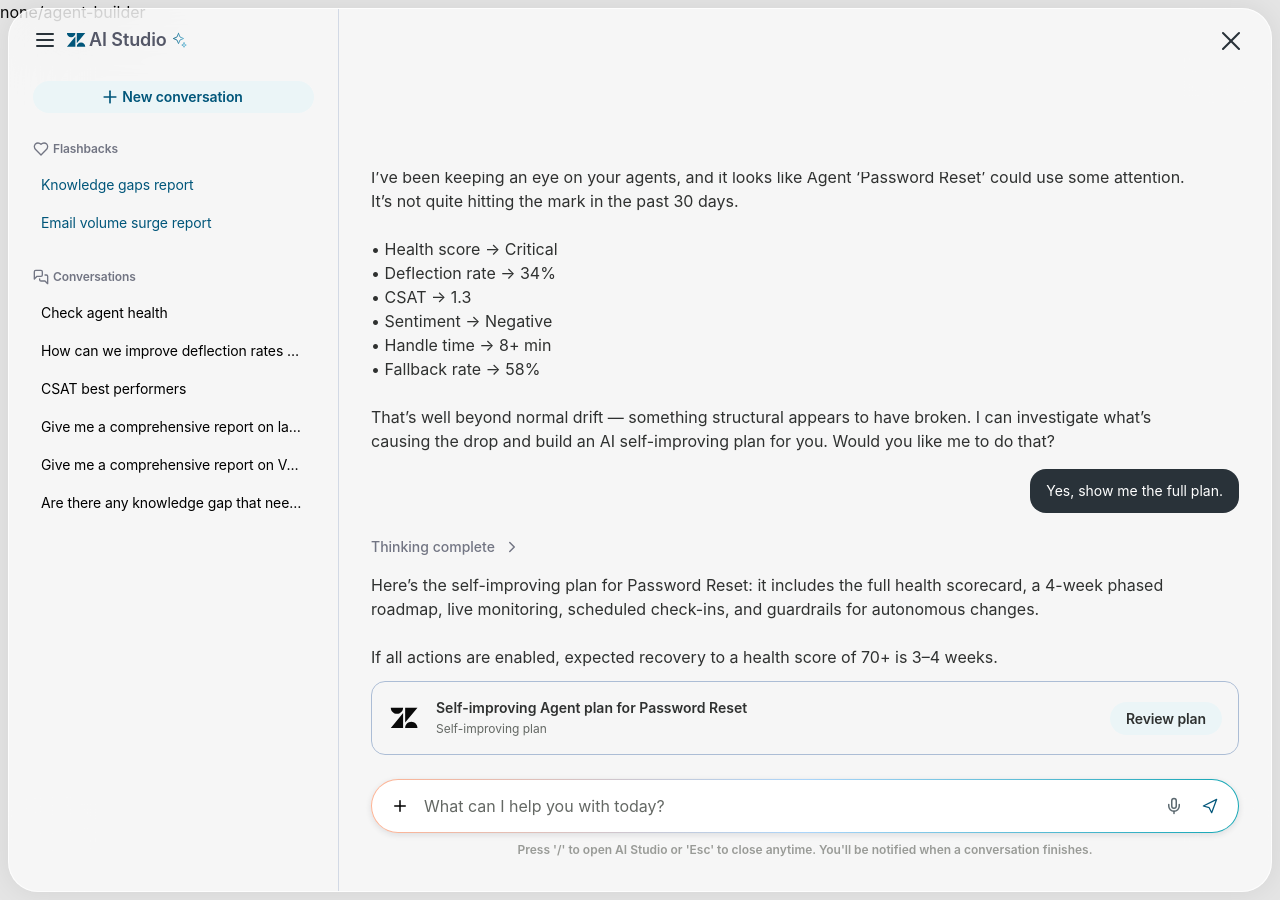
it: SelfImprovingFlow › opens the panel from the artifact card
(page scrolled)
Click the button "Review plan": (1166, 718) [1110,702,1222,734]
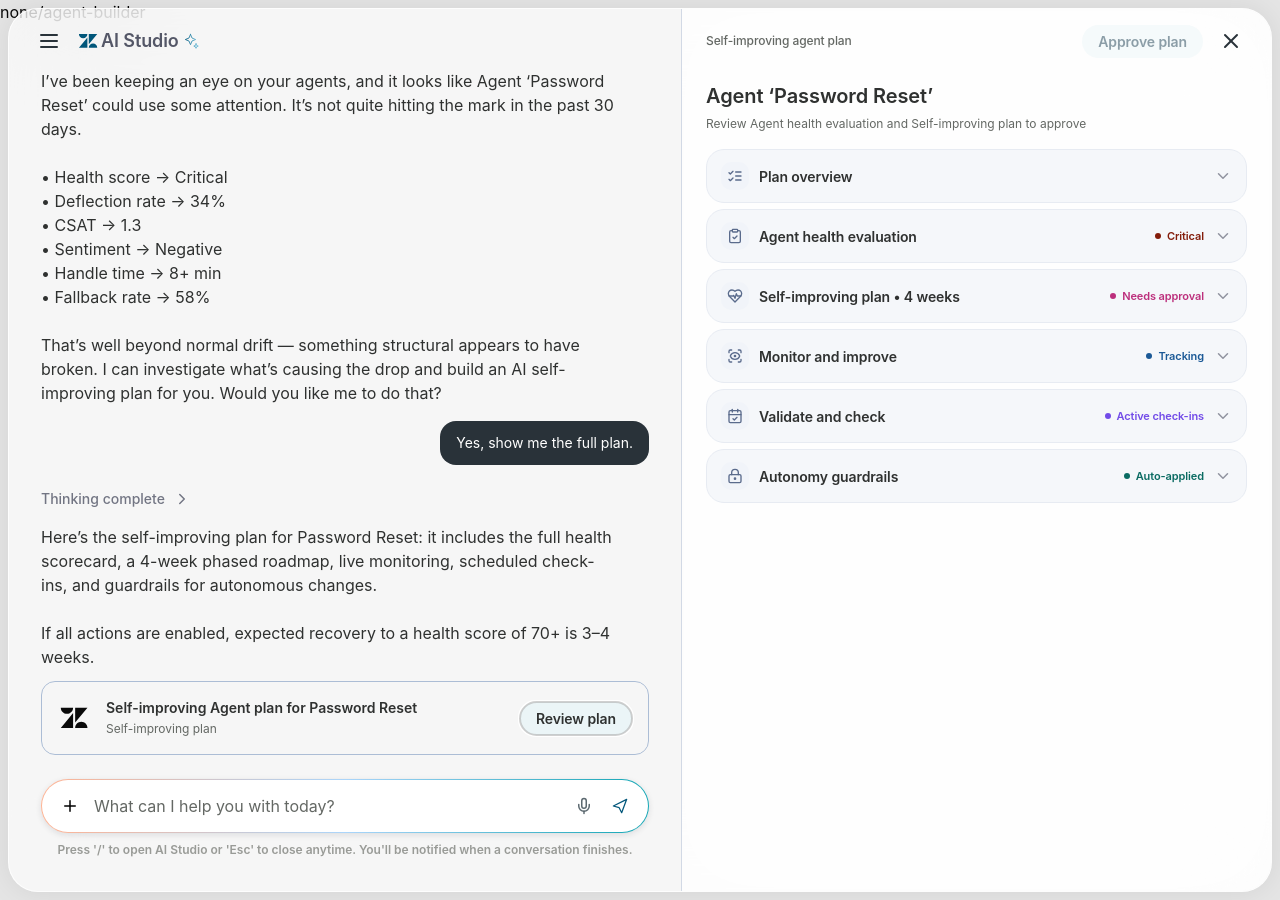
Expected: the element with test id "self-improving-canvas" is shown, [706,24,1247,503]
Expected: the heading "Agent ‘Password Reset’" is shown, [706,84,933,108]
